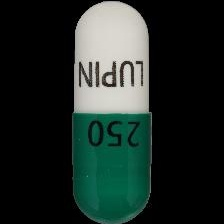52959-030: (0, 0, 224, 224)
